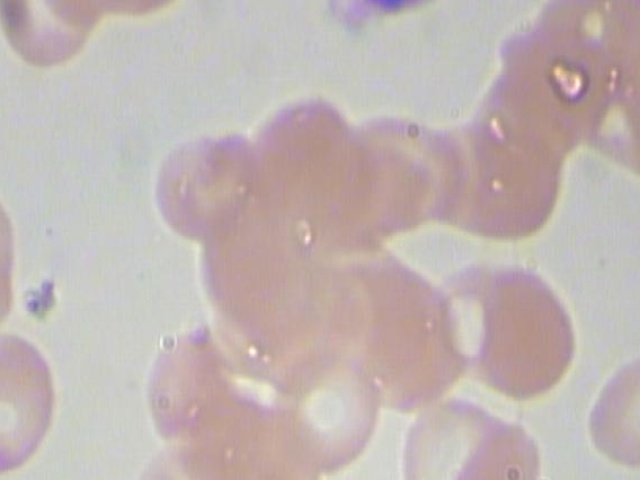Platelets: (306, 0, 496, 61)
RBC: (454, 251, 583, 407), (262, 331, 393, 479), (147, 114, 270, 247), (136, 318, 225, 450), (0, 320, 62, 480), (0, 0, 118, 78), (431, 410, 554, 480), (580, 340, 640, 480), (0, 170, 26, 330)
